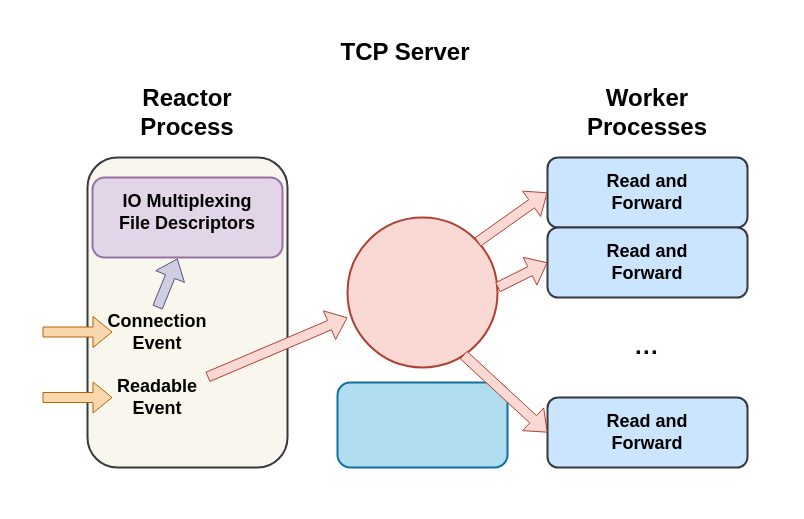
Image size: 804x519. Some labels were removed from this diagram. The shapes that lost their labels are listed below. From the top down, each one's box as (x1, y1, x2, y2) in pixels, then its label:
(346, 216, 498, 368): File Descriptor Ring buffer
(336, 381, 508, 468): Some Shared Resources
